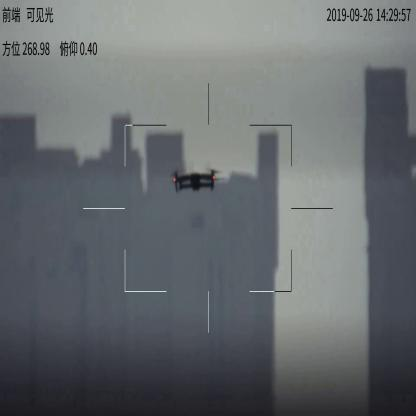uav: (168, 164, 224, 198)
